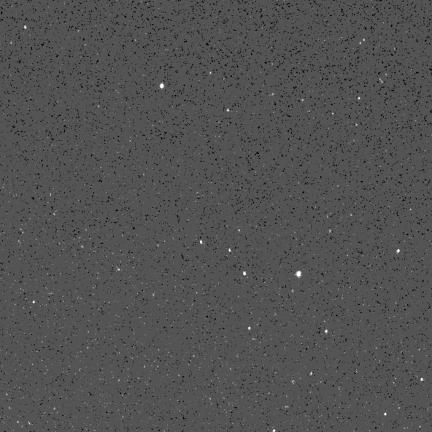blob: (296, 271, 302, 278), (160, 83, 164, 88), (325, 330, 329, 334), (24, 25, 27, 30), (243, 271, 246, 275), (200, 241, 203, 245), (229, 249, 232, 253), (249, 327, 252, 331), (384, 413, 387, 416), (33, 301, 36, 304), (227, 109, 230, 112), (272, 93, 275, 96), (358, 97, 361, 100), (397, 249, 399, 253), (421, 378, 423, 381), (210, 72, 212, 75)
